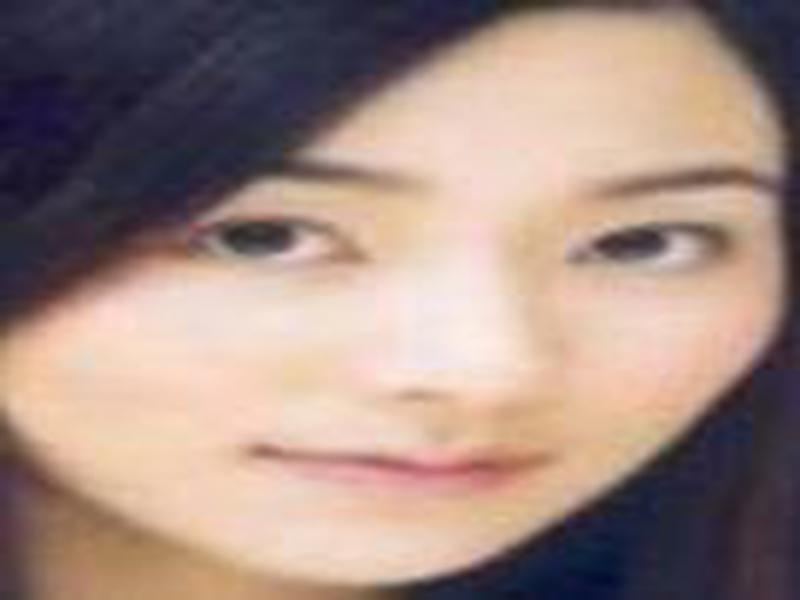without_mask: (2, 82, 800, 585)
